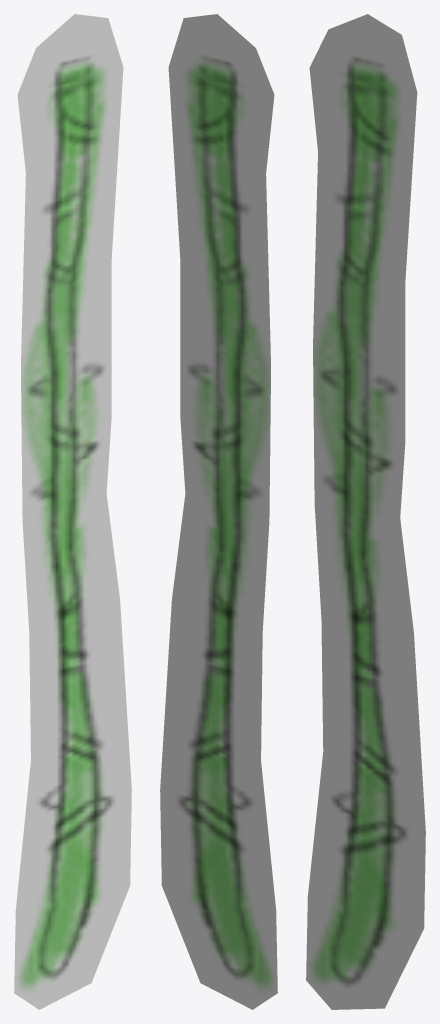
The model's file is Lian2.fbx.
The picture shows the model from 3 angles, left to right: view 1: azimuth 30°, elevation 25°; view 2: azimuth 150°, elevation 25°; view 3: azimuth 330°, elevation 25°; orthographic projection.
Parts seen in each view (by area): view 1: Lian2; view 2: Lian2; view 3: Lian2.
Boxes of the visible parts, x1=… form: Lian2: x1=14, y1=14, x2=131, y2=1009; Lian2: x1=160, y1=14, x2=277, y2=1009; Lian2: x1=306, y1=14, x2=425, y2=1009.
Bounding box in the file's own units: 4.15 × 33.24 × 5.42e-06.
